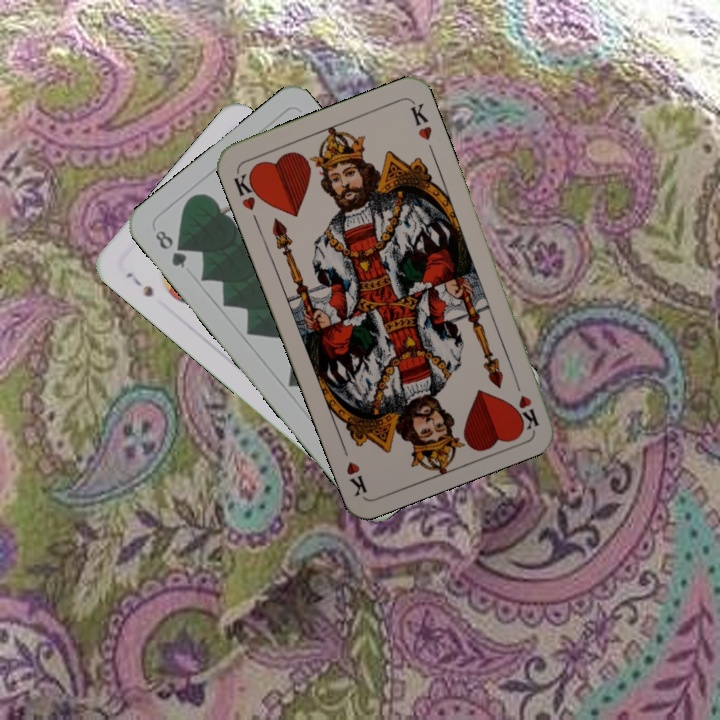G8: (151, 225, 190, 271)
HK: (509, 372, 542, 431), (230, 167, 265, 213)
S7: (122, 268, 156, 300)
